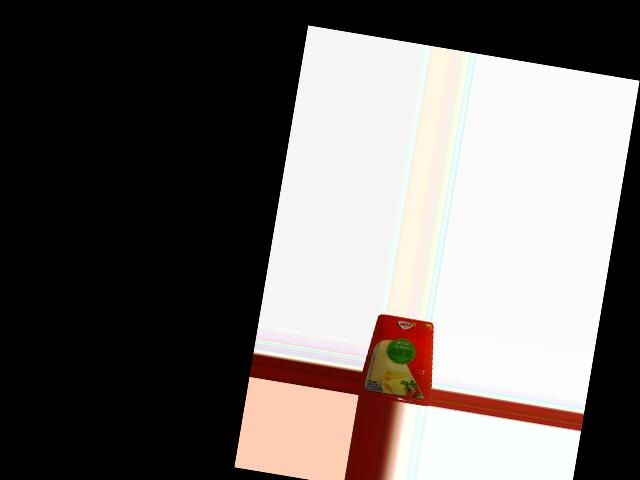cheese: (360, 313, 442, 407)
